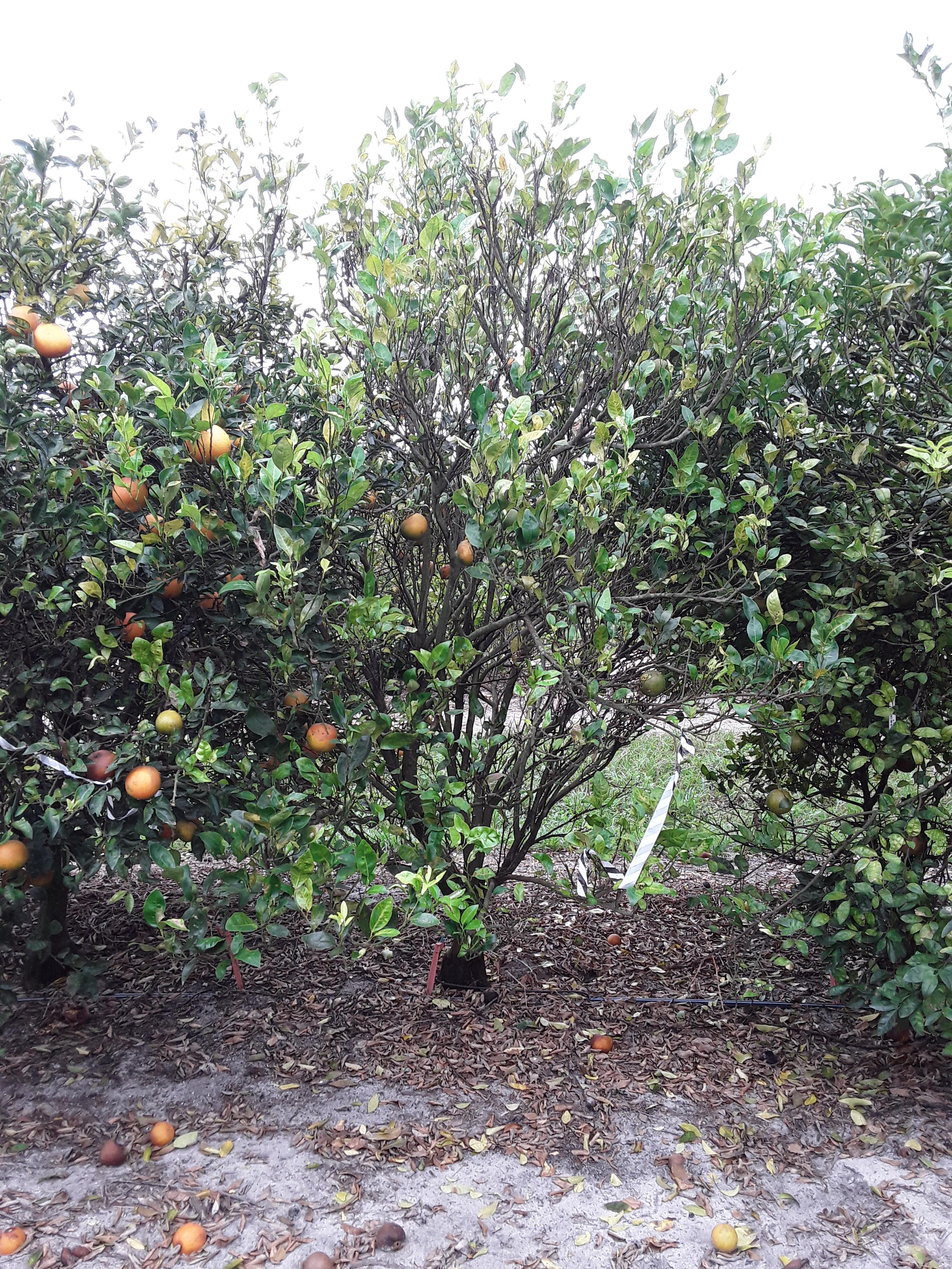fruit_on_ground: (182, 421, 231, 466), (107, 471, 151, 513), (219, 417, 264, 456), (32, 322, 74, 360), (213, 376, 256, 412), (4, 301, 44, 339), (124, 763, 162, 801), (190, 508, 230, 544), (57, 378, 98, 411), (134, 510, 171, 546), (111, 609, 149, 644), (82, 746, 119, 781), (304, 719, 340, 754), (113, 439, 152, 471), (60, 277, 96, 308), (153, 706, 187, 738), (0, 837, 31, 872), (254, 744, 287, 776), (636, 666, 670, 697), (155, 571, 188, 602), (195, 588, 229, 618), (57, 459, 88, 490), (765, 785, 796, 816), (398, 510, 430, 540), (241, 805, 274, 834), (220, 562, 251, 592), (280, 686, 312, 715), (898, 830, 929, 859), (494, 503, 524, 532), (175, 815, 204, 844), (453, 537, 480, 567), (26, 863, 55, 890), (778, 728, 808, 754), (356, 483, 382, 511), (153, 816, 177, 843), (646, 357, 673, 381), (892, 750, 917, 773), (714, 601, 738, 624), (368, 424, 394, 443), (437, 563, 456, 582), (418, 559, 437, 577)
fruit_on_tree: (170, 1220, 208, 1258), (709, 1220, 741, 1255), (97, 1137, 129, 1170), (374, 1220, 406, 1251), (148, 1118, 177, 1147), (1, 1225, 28, 1256), (299, 1248, 335, 1269), (588, 1031, 616, 1054), (605, 930, 623, 947)
